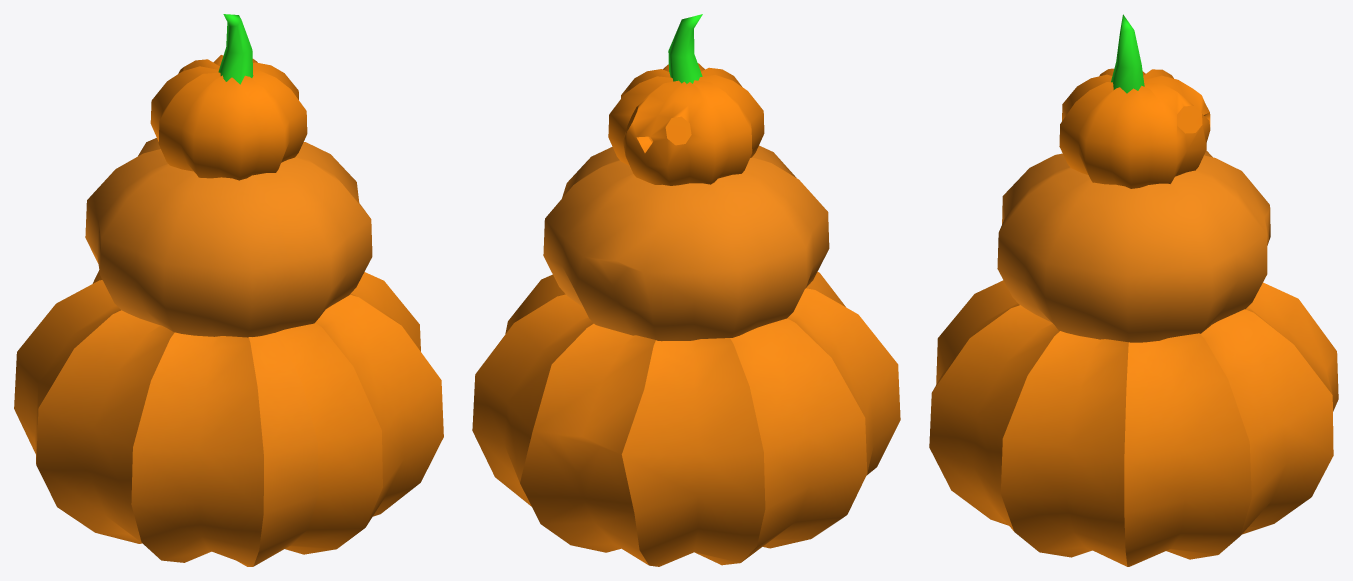
The model's file is Abobora_04_Base.fbx.
3 views of the same model, side by side, from view 1: azimuth 30°, elevation 25°; view 2: azimuth 150°, elevation 25°; view 3: azimuth 270°, elevation 25° (orthographic). The views are drawn at different scales.
Parts seen in each view (by area): view 1: Abobora_04; view 2: Abobora_04; view 3: Abobora_04.
Part boxes in pixels (x1,y1,x2,y2): Abobora_04: (14,14,443,566); Abobora_04: (472,14,900,566); Abobora_04: (929,14,1338,566).
Bounding box in the file's own units: 27.05 × 35.54 × 26.15.
